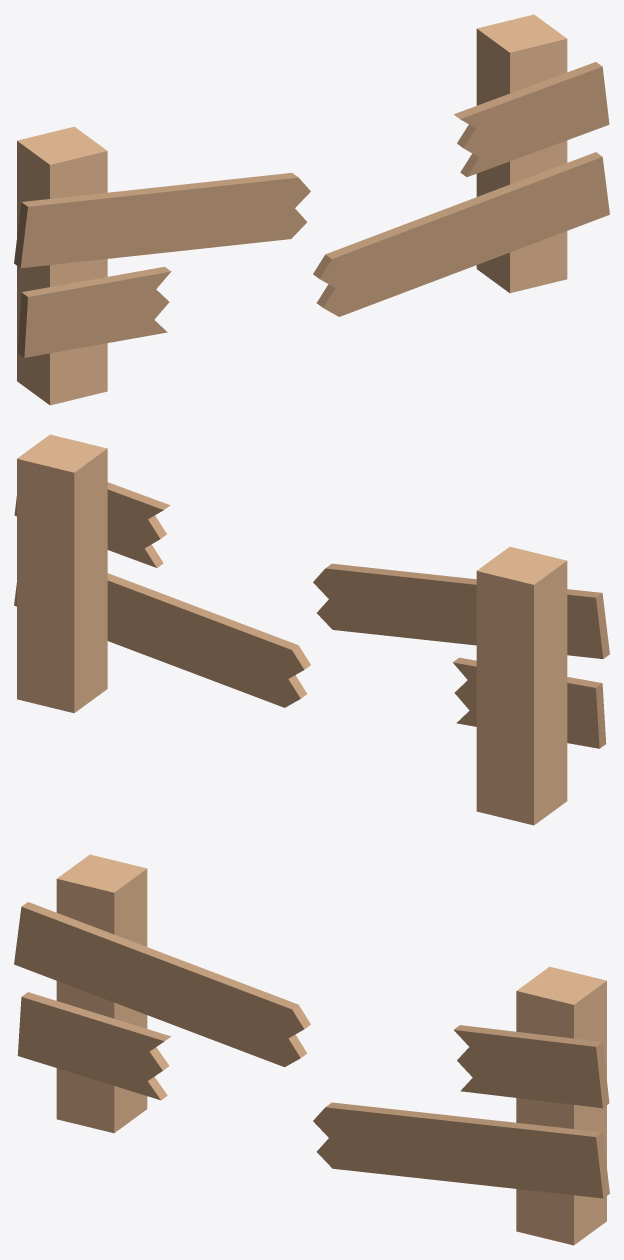
The model's file is fence_broken.glb.
3 views of the same model, one above another, from view 1: azimuth 30°, elevation 25°; view 2: azimuth 150°, elevation 25°; view 3: azimuth 330°, elevation 25° (orthographic).
Parts seen in each view (by area): view 1: fenceBroken; view 2: fenceBroken; view 3: fenceBroken.
Part boxes in pixels (x1,y1,x2,y2): fenceBroken: (14,14,609,405); fenceBroken: (14,434,609,825); fenceBroken: (14,854,609,1245).
Bounding box in the file's own units: 10.26 × 4 × 1.2.
